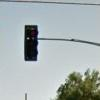Traffic light: (15, 25, 47, 67)
